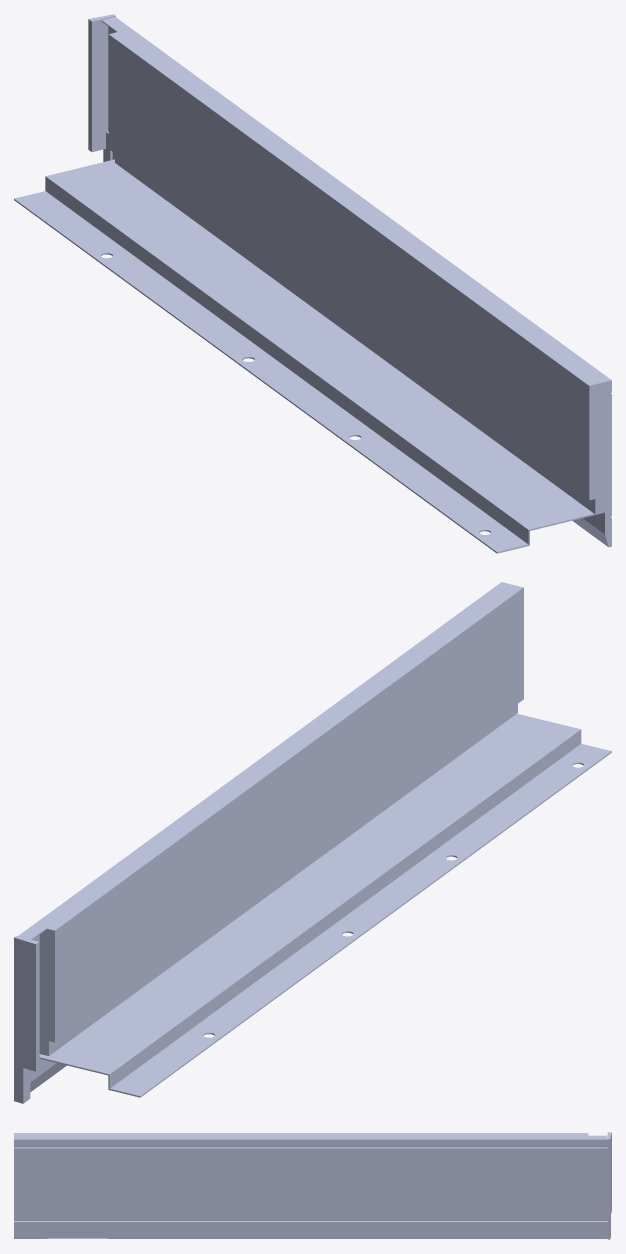
File: lg-kava-M500-m.glb
The picture shows the model from 3 angles, top to bottom: view 1: azimuth 30°, elevation 25°; view 2: azimuth 150°, elevation 25°; view 3: azimuth 270°, elevation 25°; orthographic projection. The views are drawn at different scales.
Visible parts, largest first — view 1: 43228728; view 2: 43228728; view 3: 43228728.
Boxes of the visible parts, x1,y1,x2,y2 form: 43228728: [14, 14, 611, 553]; 43228728: [14, 582, 611, 1103]; 43228728: [14, 1132, 611, 1239].
Bounding box in the file's own units: 0.0653 × 0.0912 × 0.4935.
